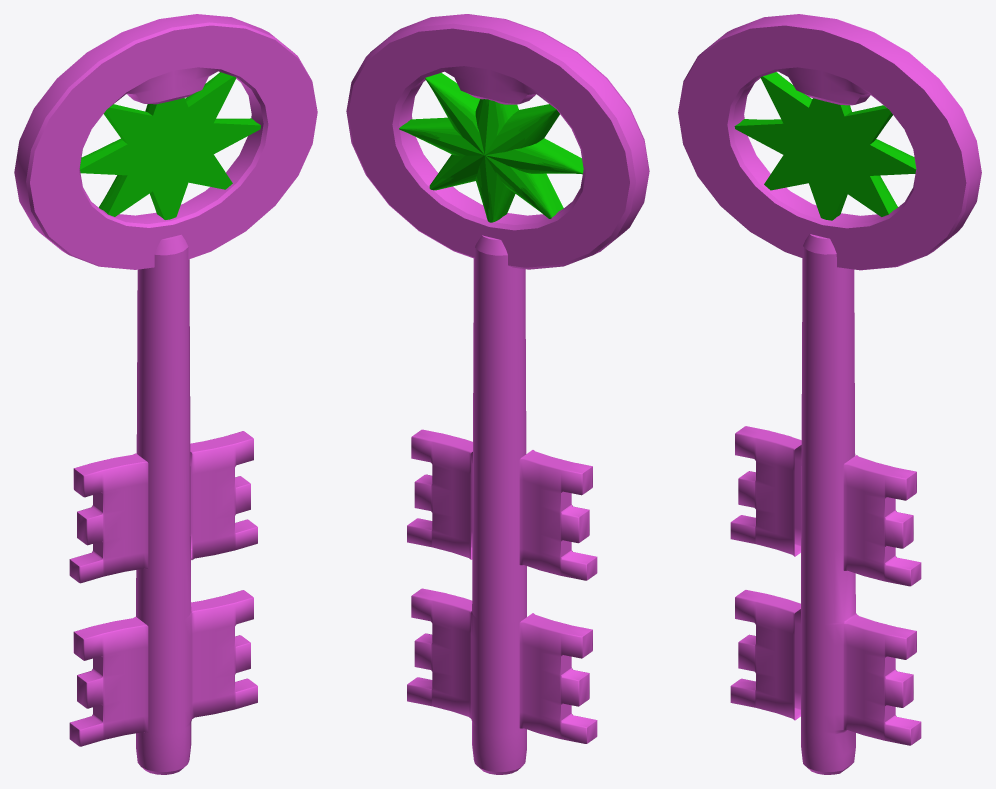
File: Key_big.fbx
3 renders of one model, left to right at view 1: azimuth 30°, elevation 25°; view 2: azimuth 150°, elevation 25°; view 3: azimuth 330°, elevation 25°, orthographic.
Parts seen in each view (by area): view 1: Key_01.005; view 2: Key_01.005; view 3: Key_01.005.
Part boxes in pixels (x1,y1,x2,y2): Key_01.005: [14, 14, 317, 774]; Key_01.005: [346, 14, 649, 774]; Key_01.005: [678, 14, 981, 774].
Size of the model in its own units: 160 by 389 by 25.96.
